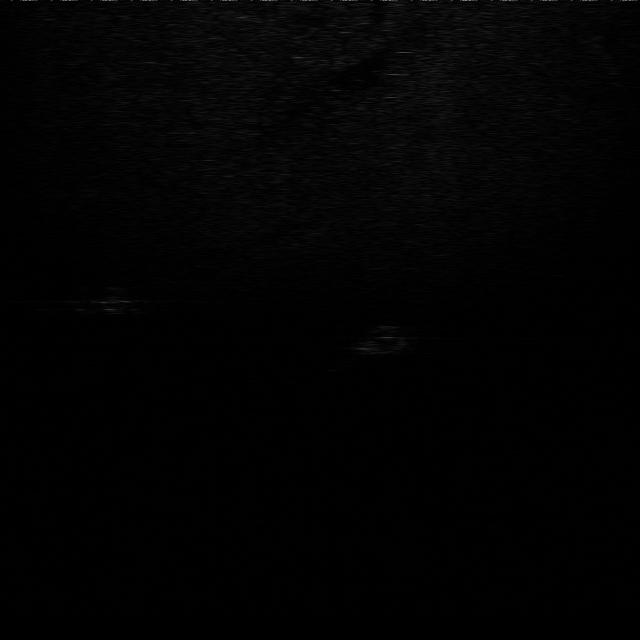circle cage: (81, 283, 144, 320)
tyre: (349, 317, 416, 357)
